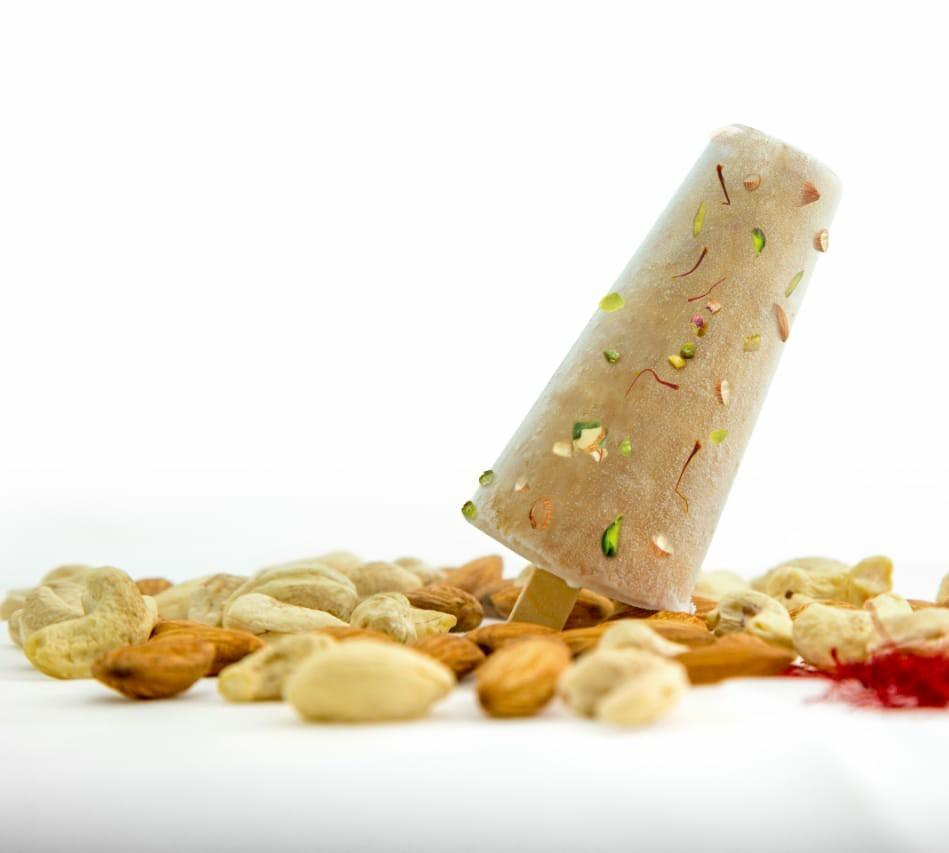Kulfi: (464, 126, 840, 611)
